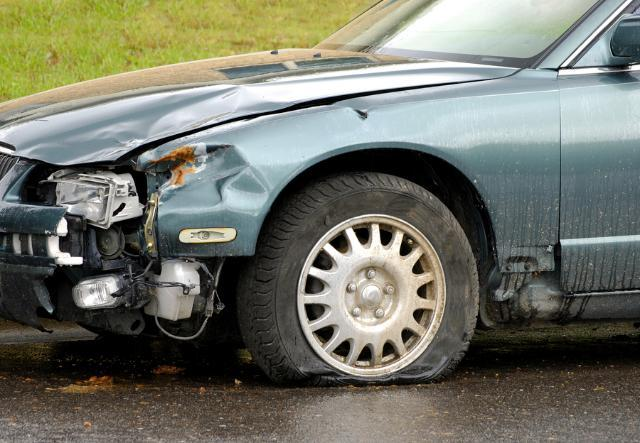Bumper: (0, 200, 254, 345)
Fender: (130, 96, 399, 260)
Light: (13, 156, 153, 204)
